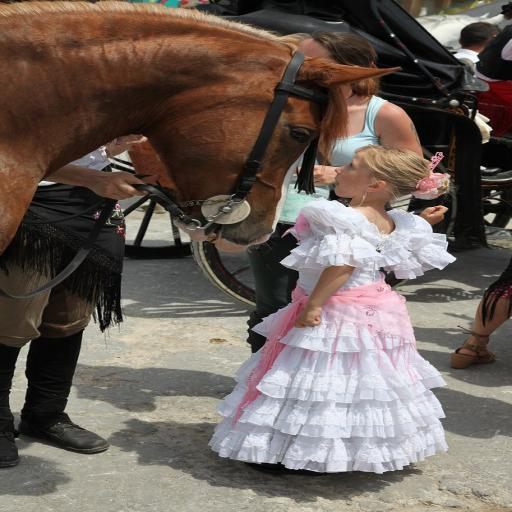horse: (0, 0, 404, 255)
